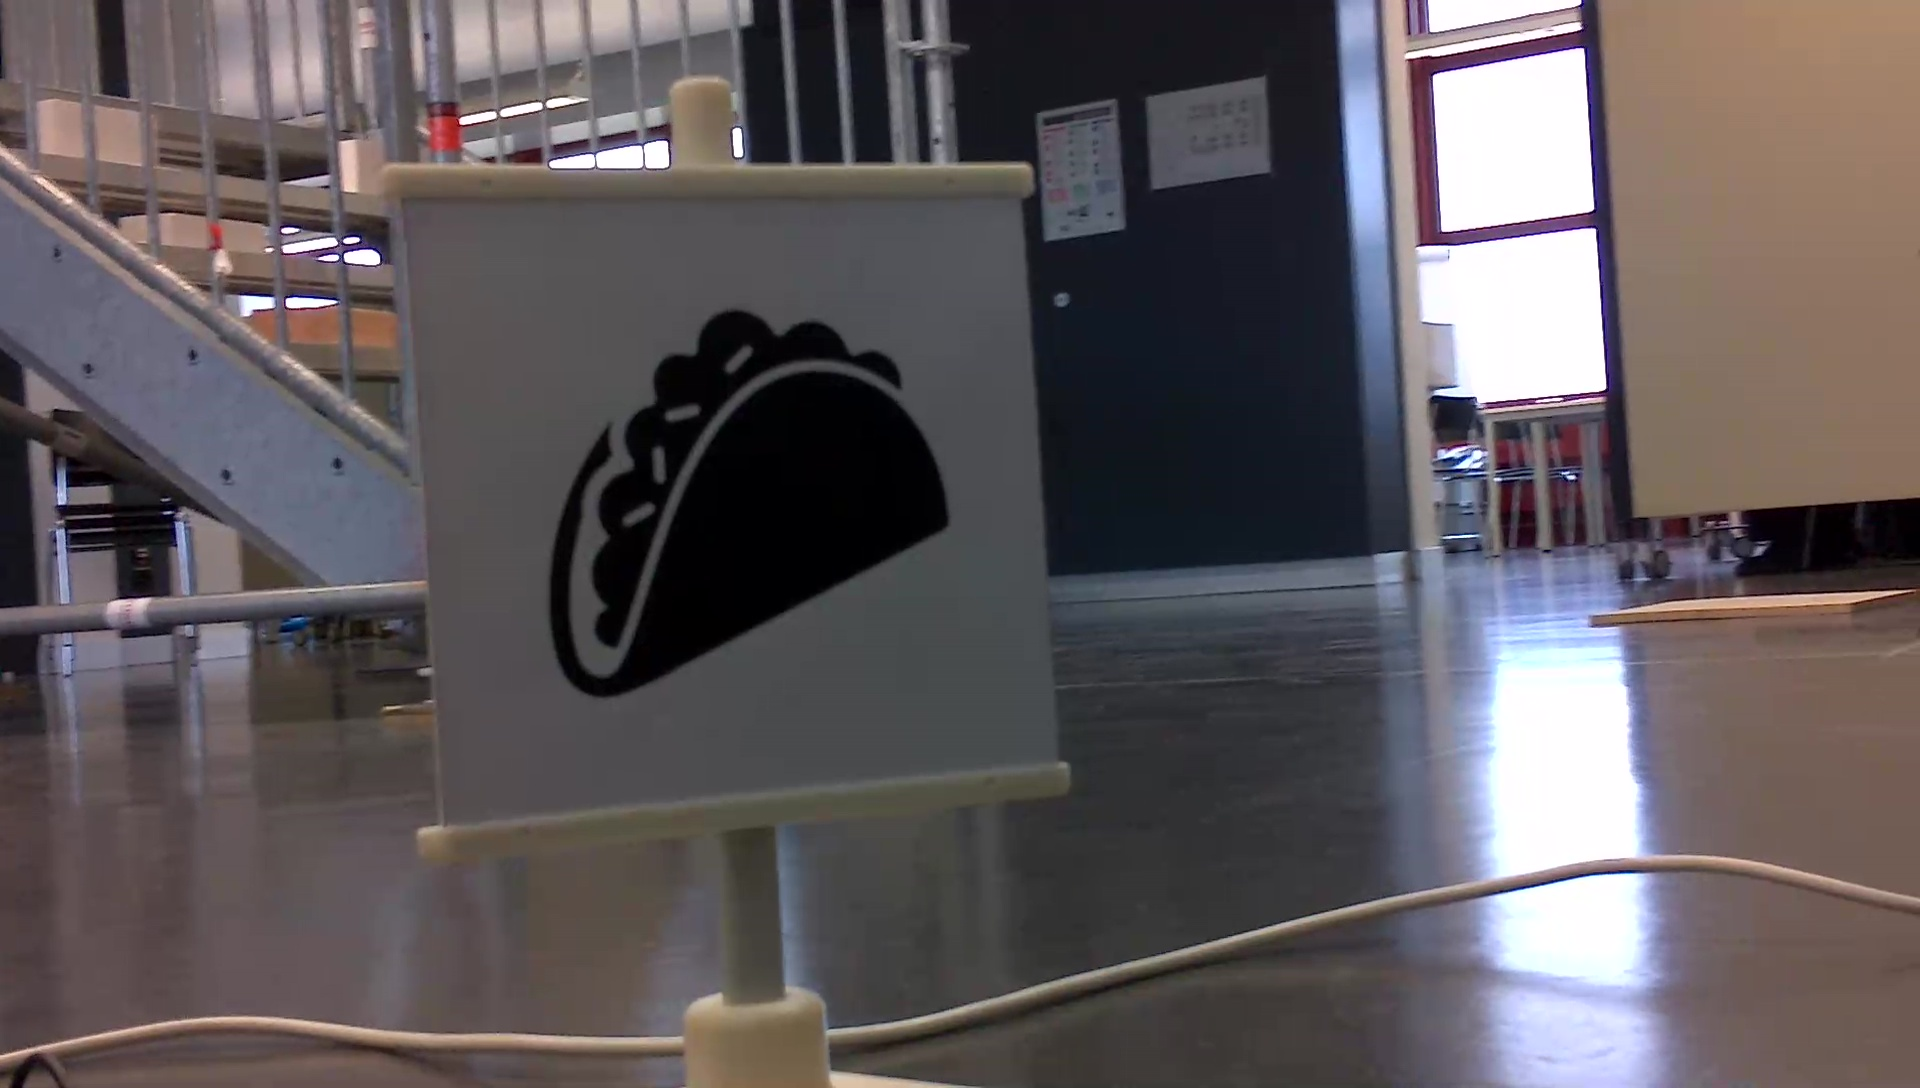taco: (535, 295, 965, 711)
